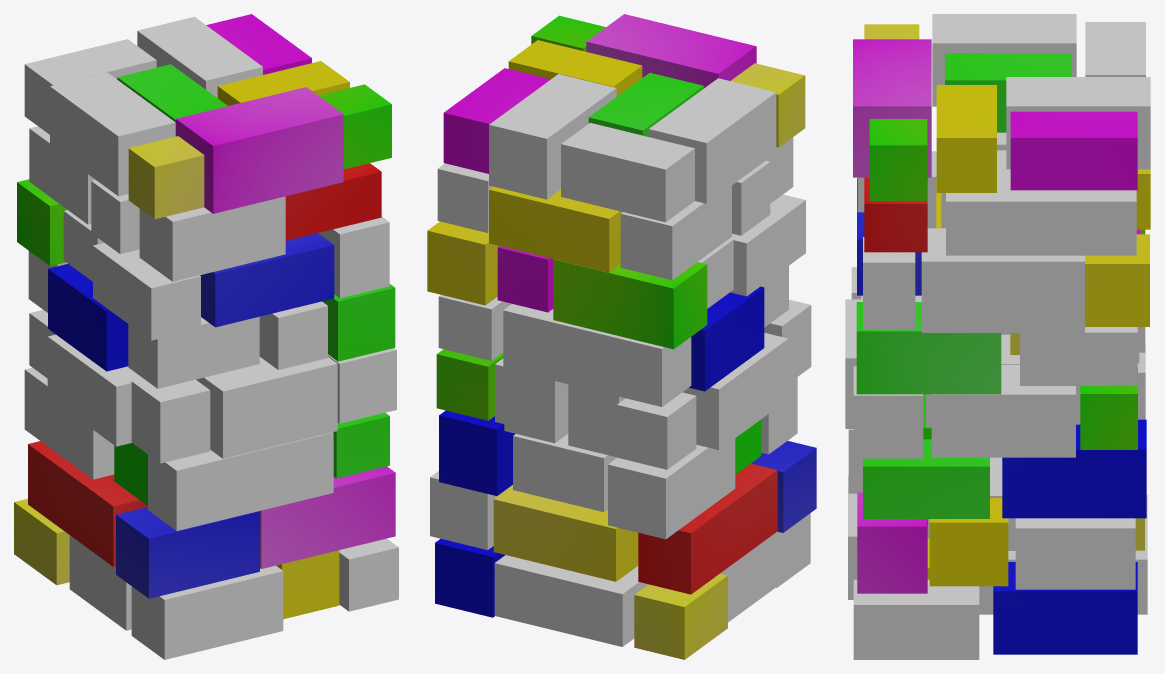
The model's file is Block3.fbx.
3 renders of one model, left to right at view 1: azimuth 30°, elevation 25°; view 2: azimuth 150°, elevation 25°; view 3: azimuth 270°, elevation 25°, orthographic. The views are drawn at different scales.
Visible parts, largest first — view 1: Block3.006_low, Block3.044_low, Block3.046_low, Block3.040_low, Block3.036_low, Block3.056_low, Block3.039_low, Block3.003_low, Block3.027_low, Block3.042_low, Block3.034_low, Block3.004_low (+28 smaller); view 2: Block3.001_low, Block3.031_low, Block3.012_low, Block3.042_low, Block3.056_low, Block3.060_low, Block3.049_low, Block3.016_low, Block3.047_low, Block3.005_low, Block3.006_low, Block3.013_low (+31 smaller); view 3: Block3.023_low, Block3.009_low, Block3.055_low, Block3.018_low, Block3.054_low, Block3.051_low, Block3.020_low, Block3.035_low, Block3.062_low, Block3.041_low, Block3.006_low, Block3.010_low (+26 smaller).
Part boxes in pixels (x1=…): Block3.006_low: x1=176, y1=87, x2=343, y2=213; Block3.044_low: x1=148, y1=432, x2=333, y2=530; Block3.046_low: x1=196, y1=357, x2=337, y2=458; Block3.040_low: x1=116, y1=507, x2=259, y2=598; Block3.036_low: x1=131, y1=565, x2=283, y2=659; Block3.056_low: x1=50, y1=72, x2=175, y2=196; Block3.039_low: x1=259, y1=466, x2=395, y2=568; Block3.003_low: x1=139, y1=196, x2=285, y2=281; Block3.027_low: x1=200, y1=233, x2=334, y2=327; Block3.042_low: x1=28, y1=441, x2=147, y2=566; Block3.034_low: x1=93, y1=243, x2=200, y2=340; Block3.004_low: x1=128, y1=316, x2=259, y2=388; Block3.001_low: x1=503, y1=304, x2=691, y2=406; Block3.031_low: x1=553, y1=259, x2=707, y2=349; Block3.012_low: x1=561, y1=123, x2=694, y2=222; Block3.042_low: x1=638, y1=463, x2=777, y2=594; Block3.056_low: x1=648, y1=78, x2=776, y2=203; Block3.060_low: x1=494, y1=555, x2=647, y2=646; Block3.049_low: x1=493, y1=485, x2=638, y2=581; Block3.016_low: x1=489, y1=74, x2=616, y2=199; Block3.047_low: x1=608, y1=438, x2=735, y2=539; Block3.005_low: x1=489, y1=186, x2=622, y2=272; Block3.006_low: x1=586, y1=14, x2=756, y2=88; Block3.013_low: x1=620, y1=185, x2=731, y2=280; Block3.023_low: x1=921, y1=228, x2=1084, y2=332; Block3.009_low: x1=946, y1=176, x2=1136, y2=255; Block3.055_low: x1=931, y1=365, x2=1075, y2=457; Block3.018_low: x1=1010, y1=111, x2=1137, y2=190; Block3.054_low: x1=993, y1=562, x2=1137, y2=654; Block3.051_low: x1=1002, y1=419, x2=1146, y2=518; Block3.020_low: x1=856, y1=302, x2=1001, y2=394; Block3.035_low: x1=853, y1=579, x2=979, y2=659; Block3.062_low: x1=1015, y1=518, x2=1135, y2=589; Block3.041_low: x1=863, y1=439, x2=989, y2=518; Block3.006_low: x1=853, y1=39, x2=931, y2=177; Block3.010_low: x1=936, y1=85, x2=996, y2=192.
Bounding box in the file's own units: 1.03 × 1.95 × 1.03.
